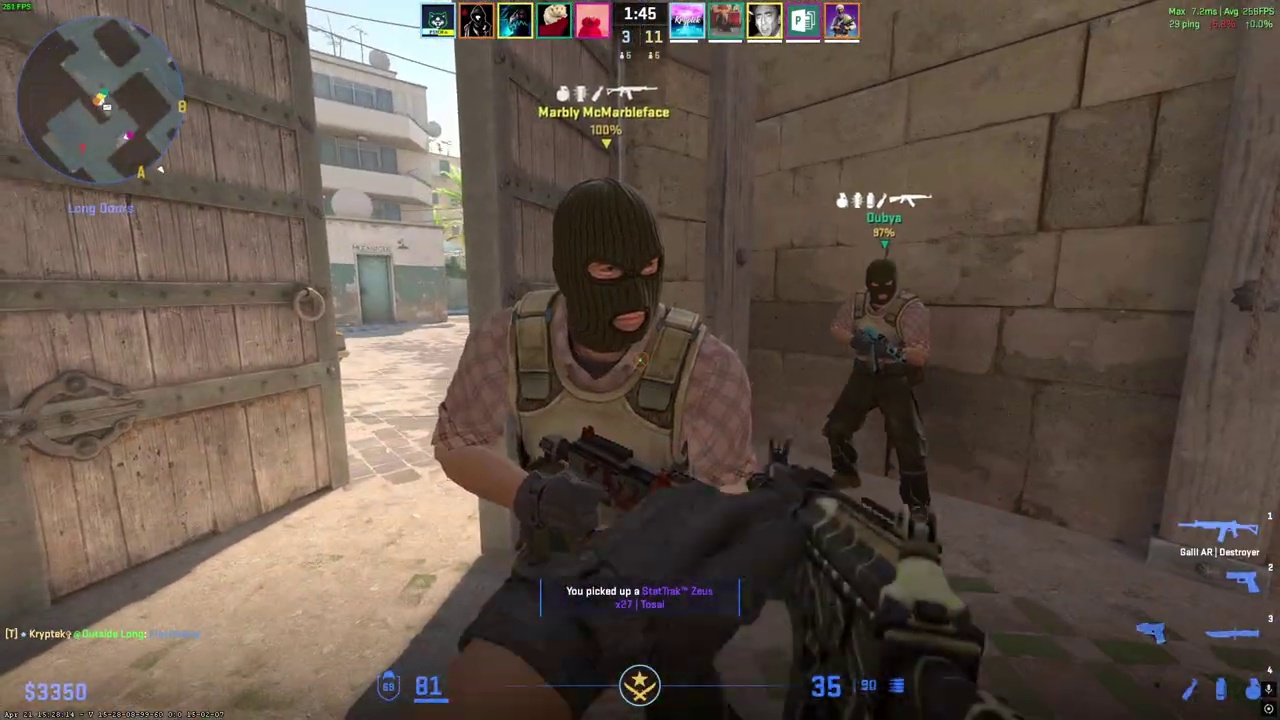Terrorist: (451, 176, 749, 588), (822, 259, 931, 521)
